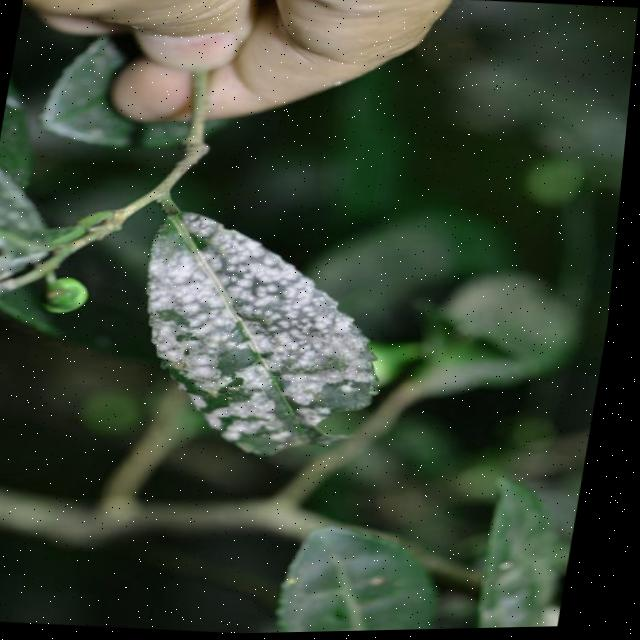Tea algae leaf spot: (132, 227, 416, 447)
